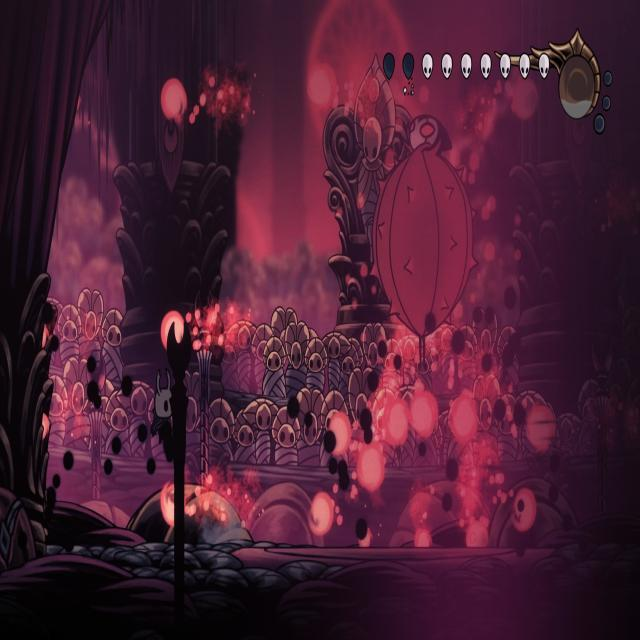Player: (147, 363, 177, 450)
Pufferfish: (367, 107, 483, 386)
Tiny Fireballs: (160, 480, 192, 538), (306, 64, 336, 115), (450, 393, 478, 445), (357, 443, 386, 493), (525, 403, 554, 452), (409, 390, 437, 440), (382, 397, 408, 447), (324, 412, 352, 458), (160, 79, 187, 124), (309, 492, 333, 536), (161, 309, 186, 351), (512, 488, 535, 533)
